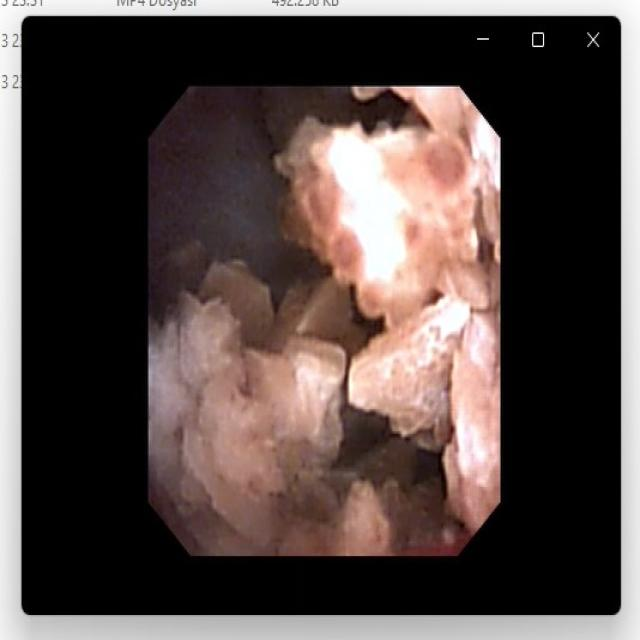stone: (152, 91, 496, 549)
